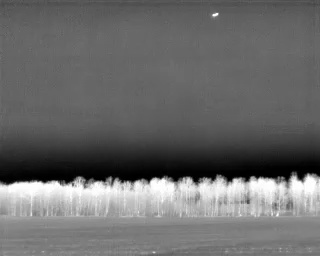DRONE: (209, 9, 222, 21)
